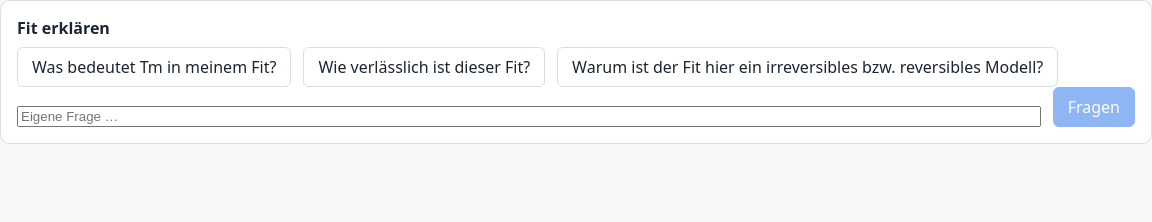
ExplainPanel › shows answer and sources
Step 1. Click the button "Was bedeutet Tm in meinem Fit?" → (154, 67), box top-left (17, 47), bottom-right (291, 87)
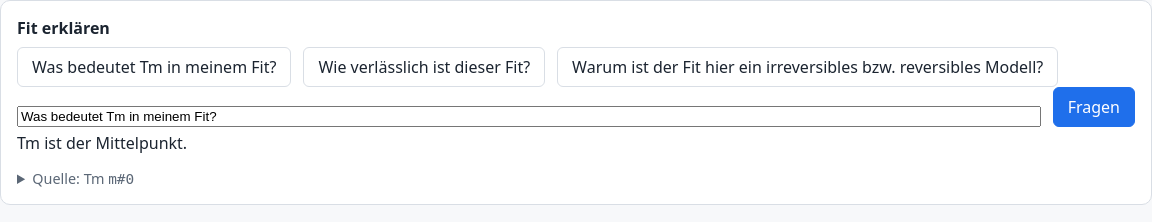
Now the text with test id "answer" reads "Tm ist der Mittelpunkt.", box top-left (17, 132), bottom-right (187, 154)
Now the heading "Quelle: Tm m#0" is shown, box top-left (32, 169), bottom-right (134, 188)
